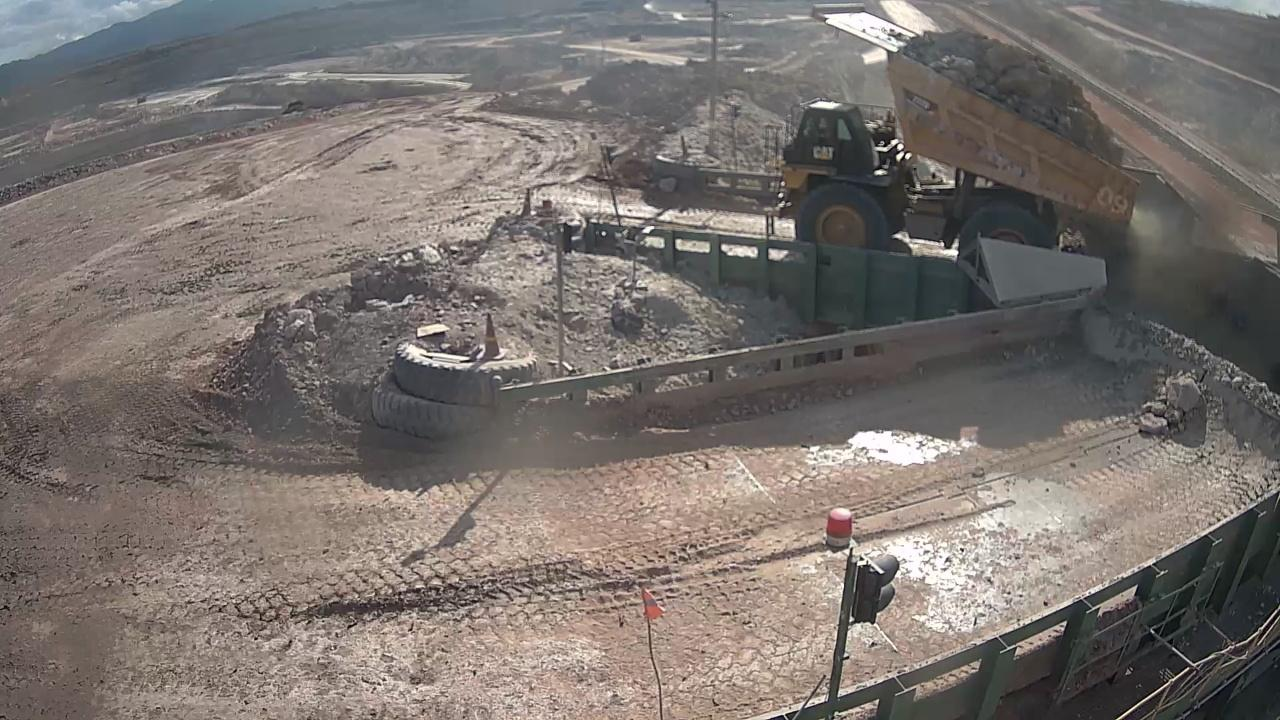dumping_soil: (777, 4, 1156, 281)
full_load: (920, 19, 1112, 153)
tail_number: (1097, 177, 1137, 227)
